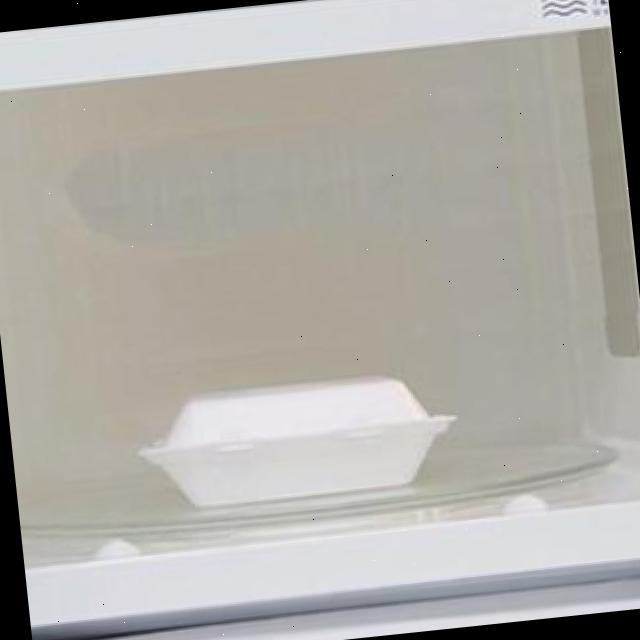styrofoam: (129, 363, 461, 512)
